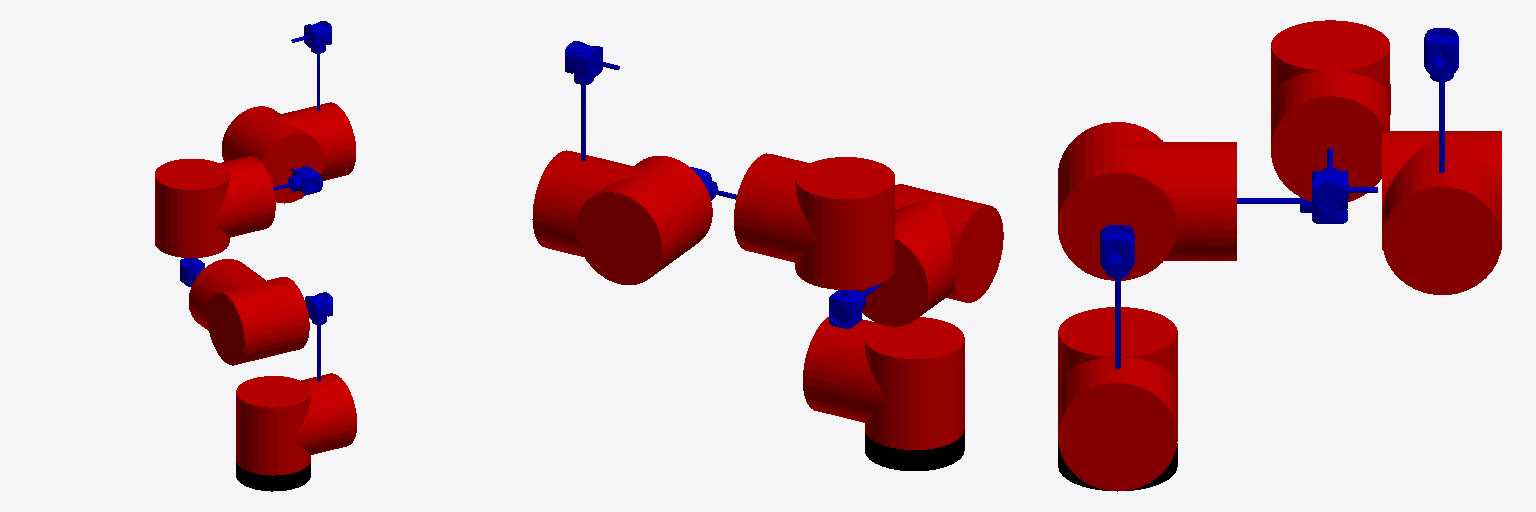
URDF robot description (node120):
<?xml version="1.0"?>
<robot  name="node120" >
 <material  name="blue" >
  <color  rgba="0 0 0.8 1.0" />
 </material>
 <material  name="red" >
  <color  rgba="0.8 0 0 1.0" />
 </material>
 <material  name="black" >
  <color  rgba="0.0 0.0 0.0 1.0" />
 </material>
 <link  name="root_mod" >
  <visual >
   <origin  rpy="0 0 0"  xyz="0 0 0" />
   <material  name="black" />
   <geometry >
    <cylinder  length="0.02"  radius="0.05" />
   </geometry>
  </visual>
 </link>
 <link  name="jointMod_1" >
  <visual >
   <origin  rpy="1.5707963267948963 0.0 0.0"  xyz="0.0 7.771561172376096e-19 0.0035" />
   <material  name="red" />
   <geometry >
    <mesh  filename="./meshes/j_module.obj"  scale="0.001 0.001 0.001" />
   </geometry>
  </visual>
 </link>
 <joint  type="revolute"  name="joint_1_revolute" >
  <parent  link="root_mod" />
  <child  link="jointMod_1" />
  <origin  rpy="0 0 0"  xyz="0.0 0.0 0.01" />
  <axis  xyz="0.0 0.0 1.0" />
 </joint>
 <transmission  name="act_joint_1_revolute" >
  <type  xmltext="SimpleTransmission" >
   SimpleTransmission
  </type>
  <actuator  name="act_joint_1_revolute" >
   <mechanicalreduction  xmltext="1" >
    1
   </mechanicalreduction>
  </actuator>
  <joint  name="joint_1_revolute" />
 </transmission>
 <link  name="linkMod_2" >
  <visual >
   <origin  rpy="1.5707963240855651 -1.2497703982816688e-08 -3.141592641092089"  xyz="0.03999999999999998 4.999081662324221e-10 -4.999081648780052e-10" />
   <material  name="blue" />
   <geometry >
    <mesh  filename="./meshes/l1_module.obj"  scale="0.001 0.001 0.001" />
   </geometry>
  </visual>
 </link>
 <joint  type="revolute"  name="joint_2_revolute" >
  <parent  link="jointMod_1" />
  <child  link="linkMod_2" />
  <origin  rpy="0 0 0"  xyz="0.03 -0.0002999999999999882 0.053000000000000005" />
  <axis  xyz="1.0 0.0 0.0" />
 </joint>
 <transmission  name="act_joint_2_revolute" >
  <type  xmltext="SimpleTransmission" >
   SimpleTransmission
  </type>
  <actuator  name="act_joint_2_revolute" >
   <mechanicalreduction  xmltext="1" >
    1
   </mechanicalreduction>
  </actuator>
  <joint  name="joint_2_revolute" />
 </transmission>
 <link  name="jointMod_3" >
  <visual >
   <origin  rpy="0.0 0.0 1.5707963267948963"  xyz="-0.0035 7.771561172376096e-19 0.0" />
   <material  name="red" />
   <geometry >
    <mesh  filename="./meshes/j_module.obj"  scale="0.001 0.001 0.001" />
   </geometry>
  </visual>
 </link>
 <joint  type="fixed"  name="joint_3_fixed" >
  <parent  link="linkMod_2" />
  <child  link="jointMod_3" />
  <origin  rpy="0 0 0"  xyz="1.9996326608429094e-09 -4.3349299788124236e-10 0.15999999999999995" />
  <axis  xyz="-1.0 -0.0 0.0" />
 </joint>
 <link  name="linkMod_4" >
  <visual >
   <origin  rpy="-3.141592641092089 -1.5707963009853283 0.0"  xyz="-1.8496602150599611e-09 0.14799999999999994 1.84966021004862e-09" />
   <material  name="blue" />
   <geometry >
    <mesh  filename="./meshes/l3_module.obj"  scale="0.001 0.001 0.001" />
   </geometry>
  </visual>
 </link>
 <joint  type="revolute"  name="joint_4_revolute" >
  <parent  link="jointMod_3" />
  <child  link="linkMod_4" />
  <origin  rpy="0 0 0"  xyz="-0.053 0.03000000000000001 0.0003" />
  <axis  xyz="0.0 1.0 0.0" />
 </joint>
 <transmission  name="act_joint_4_revolute" >
  <type  xmltext="SimpleTransmission" >
   SimpleTransmission
  </type>
  <actuator  name="act_joint_4_revolute" >
   <mechanicalreduction  xmltext="1" >
    1
   </mechanicalreduction>
  </actuator>
  <joint  name="joint_4_revolute" />
 </transmission>
 <link  name="jointMod_5" >
  <visual >
   <origin  rpy="1.5707963267948963 0.0 0.0"  xyz="0.0 7.771561172376096e-19 0.0035" />
   <material  name="red" />
   <geometry >
    <mesh  filename="./meshes/j_module.obj"  scale="0.001 0.001 0.001" />
   </geometry>
  </visual>
 </link>
 <joint  type="fixed"  name="joint_5_fixed" >
  <parent  link="linkMod_4" />
  <child  link="jointMod_5" />
  <origin  rpy="0 0 0"  xyz="-1.958033437884919e-09 0.14799999950009177 0.0400000018496602" />
  <axis  xyz="-0.0 -0.0 1.0" />
 </joint>
 <link  name="linkMod_6" >
  <visual >
   <origin  rpy="0.0 0.0 1.5707963267948963"  xyz="0.148 -3.286260152890463e-17 0.0" />
   <material  name="blue" />
   <geometry >
    <mesh  filename="./meshes/l3_module.obj"  scale="0.001 0.001 0.001" />
   </geometry>
  </visual>
 </link>
 <joint  type="revolute"  name="joint_6_revolute" >
  <parent  link="jointMod_5" />
  <child  link="linkMod_6" />
  <origin  rpy="0 0 0"  xyz="0.03 -0.0002999999999999882 0.053000000000000005" />
  <axis  xyz="1.0 0.0 0.0" />
 </joint>
 <transmission  name="act_joint_6_revolute" >
  <type  xmltext="SimpleTransmission" >
   SimpleTransmission
  </type>
  <actuator  name="act_joint_6_revolute" >
   <mechanicalreduction  xmltext="1" >
    1
   </mechanicalreduction>
  </actuator>
  <joint  name="joint_6_revolute" />
 </transmission>
 <link  name="jointMod_7" >
  <visual >
   <origin  rpy="0.0 0.0 0.0"  xyz="0.0 0.0035 0.0" />
   <material  name="red" />
   <geometry >
    <mesh  filename="./meshes/j_module.obj"  scale="0.001 0.001 0.001" />
   </geometry>
  </visual>
 </link>
 <joint  type="fixed"  name="joint_7_fixed" >
  <parent  link="linkMod_6" />
  <child  link="jointMod_7" />
  <origin  rpy="0 0 0"  xyz="0.148 0.039999999999999966 0.0" />
  <axis  xyz="0.0 1.0 0.0" />
 </joint>
 <link  name="linkMod_8" >
  <visual >
   <origin  rpy="1.5707963240855651 -1.2497703982816688e-08 -3.141592641092089"  xyz="0.03999999999999998 4.999081662324221e-10 -4.999081648780052e-10" />
   <material  name="blue" />
   <geometry >
    <mesh  filename="./meshes/l1_module.obj"  scale="0.001 0.001 0.001" />
   </geometry>
  </visual>
 </link>
 <joint  type="revolute"  name="joint_8_revolute" >
  <parent  link="jointMod_7" />
  <child  link="linkMod_8" />
  <origin  rpy="0 0 0"  xyz="0.03 0.053000000000000005 0.0003" />
  <axis  xyz="1.0 0.0 0.0" />
 </joint>
 <transmission  name="act_joint_8_revolute" >
  <type  xmltext="SimpleTransmission" >
   SimpleTransmission
  </type>
  <actuator  name="act_joint_8_revolute" >
   <mechanicalreduction  xmltext="1" >
    1
   </mechanicalreduction>
  </actuator>
  <joint  name="joint_8_revolute" />
 </transmission>
 <link  name="eef" />
 <joint  type="fixed"  name="eef_joint" >
  <parent  link="linkMod_8" />
  <child  link="eef" />
  <origin  rpy="0 0 0"  xyz="1.9996326608429094e-09 -4.3349299788124236e-10 0.15999999999999995" />
  <axis  xyz="-1.0 -0.0 0.0" />
 </joint>
</robot>

--- Render facts (derived) ---
3 views of the same robot in one strip: view 1: azimuth 30°, elevation 25°; view 2: azimuth 150°, elevation 25°; view 3: azimuth 270°, elevation 25° (orthographic).
Model node120 with 10 links and 9 joints (5 revolute, 4 fixed), rooted at root_mod, posed all joints at 0.
Visible links, largest first — view 1: jointMod_1, jointMod_5, jointMod_3, jointMod_7, root_mod, linkMod_8, linkMod_2, linkMod_6; view 2: jointMod_5, jointMod_7, jointMod_1, jointMod_3, root_mod, linkMod_8, linkMod_4; view 3: jointMod_3, jointMod_1, jointMod_5, jointMod_7, linkMod_8, linkMod_2, linkMod_6, linkMod_4, root_mod.
Link boxes in pixels (left/top/right/bottom): jointMod_1: left=236, top=373, right=356, bottom=475; jointMod_5: left=155, top=156, right=275, bottom=257; jointMod_3: left=189, top=259, right=309, bottom=365; jointMod_7: left=222, top=102, right=355, bottom=203; root_mod: left=236, top=462, right=310, bottom=491; linkMod_8: left=291, top=21, right=331, bottom=110; linkMod_2: left=305, top=292, right=332, bottom=381; linkMod_6: left=273, top=166, right=322, bottom=194; jointMod_5: left=734, top=153, right=894, bottom=289; jointMod_7: left=532, top=150, right=712, bottom=284; jointMod_1: left=803, top=317, right=964, bottom=449; jointMod_3: left=858, top=184, right=1003, bottom=326; root_mod: left=865, top=431, right=964, bottom=470; linkMod_8: left=565, top=41, right=619, bottom=160; linkMod_4: left=829, top=282, right=884, bottom=328; jointMod_3: left=1058, top=122, right=1236, bottom=280; jointMod_1: left=1058, top=307, right=1177, bottom=490; jointMod_5: left=1271, top=20, right=1390, bottom=201; jointMod_7: left=1382, top=131, right=1501, bottom=294; linkMod_8: left=1424, top=28, right=1458, bottom=172; linkMod_2: left=1100, top=225, right=1134, bottom=368; linkMod_6: left=1312, top=148, right=1377, bottom=209; linkMod_4: left=1237, top=197, right=1347, bottom=223; root_mod: left=1058, top=443, right=1177, bottom=491.
Size in the robot's own frame: 0.3285 by 0.371 by 0.5017 metres.
8 mesh visuals loaded from 3 distinct referenced files (3 OBJ).